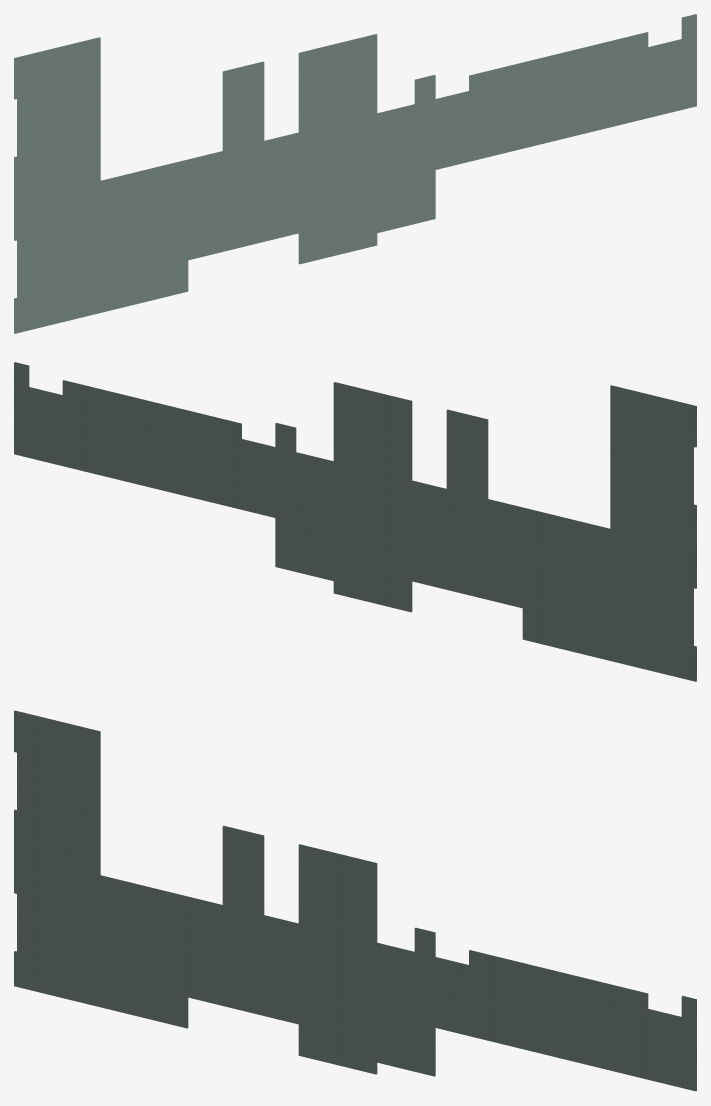
The model's file is floor_3.obj.
3 renders of one model, top to bottom at view 1: azimuth 30°, elevation 25°; view 2: azimuth 150°, elevation 25°; view 3: azimuth 330°, elevation 25°, orthographic.
Visible parts, largest first — view 1: floor_3; view 2: floor_3; view 3: floor_3.
Part boxes in pixels (<box>): floor_3: <box>14,14,696,333</box>; floor_3: <box>14,362,696,681</box>; floor_3: <box>14,710,696,1091</box>.
Bounding box in the file's own units: 58.35 × 22.5 × 0.1.
Materials: 1 (1 with a texture image).
